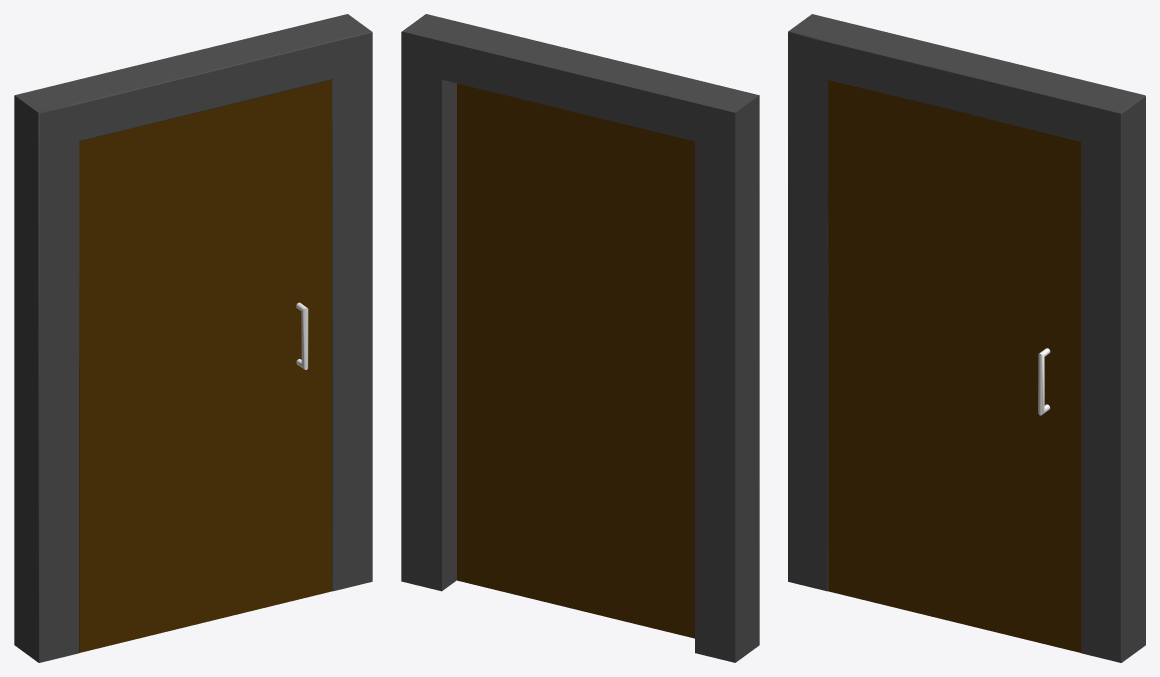
Rendered from Door.FBX.
The picture shows the model from 3 angles, left to right: view 1: azimuth 30°, elevation 25°; view 2: azimuth 150°, elevation 25°; view 3: azimuth 330°, elevation 25°; orthographic projection.
Visible parts, largest first — view 1: Door, Door Frame, Handle; view 2: Door, Door Frame; view 3: Door, Door Frame.
Part boxes in pixels (x1,y1,x2,y2): Door: (79, 80, 331, 652); Door Frame: (14, 14, 372, 662); Handle: (296, 302, 308, 369); Door: (457, 83, 694, 638); Door Frame: (401, 14, 759, 662); Door: (828, 80, 1081, 652); Door Frame: (788, 14, 1145, 662).
Size of the model in its own units: 32.19 by 50.66 by 5.36.
